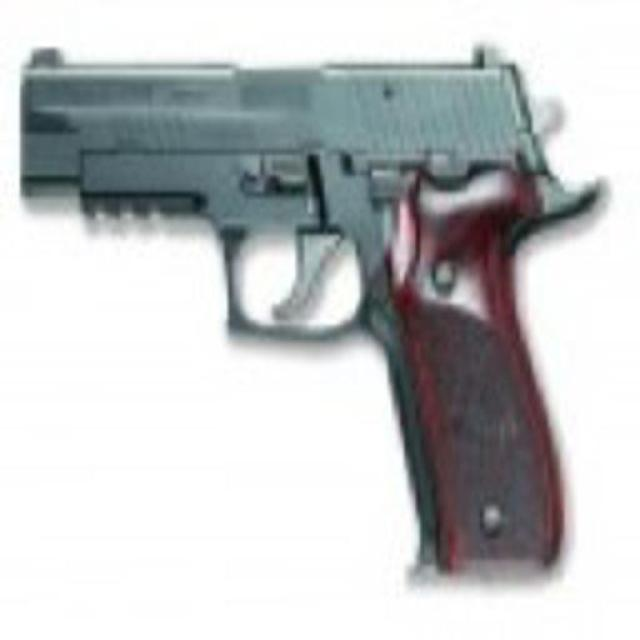pistol: (20, 36, 604, 570)
